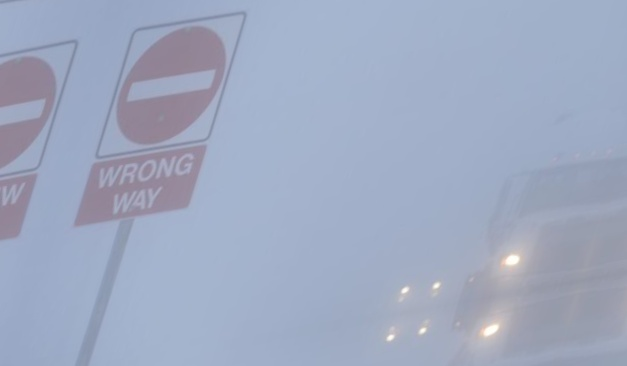No entry: (113, 25, 226, 145)
